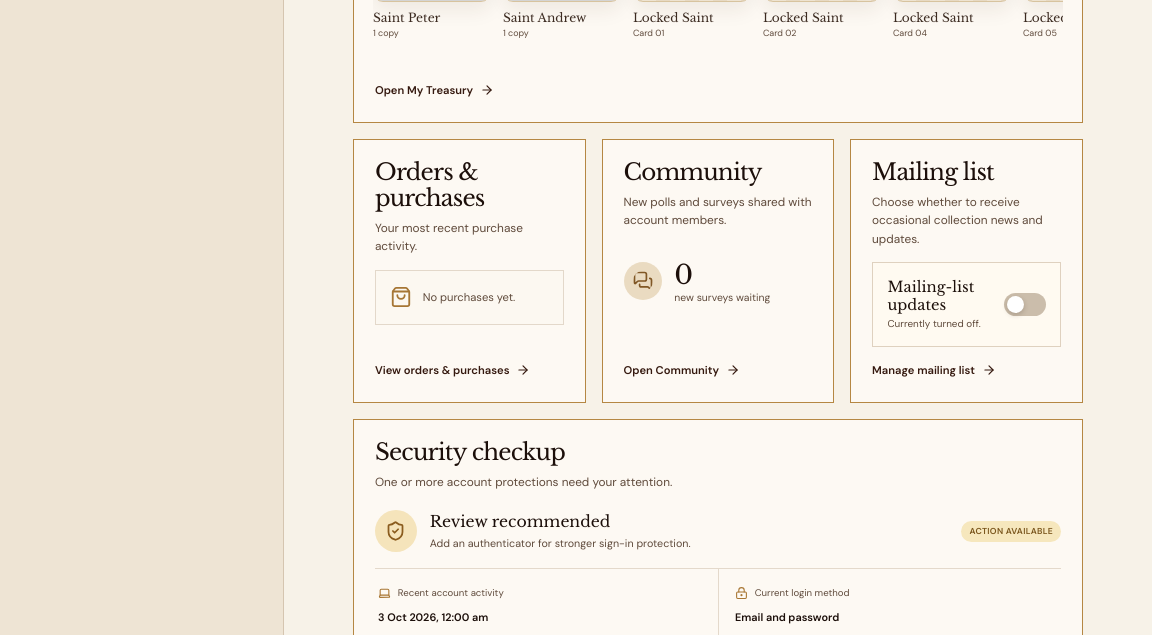
routed Account Centre › updates the mailing-list preference from the Overview switch
(page scrolled)
Click the switch named "Receive mailing-list updates" at (967, 305), box [872,262,1061,347]
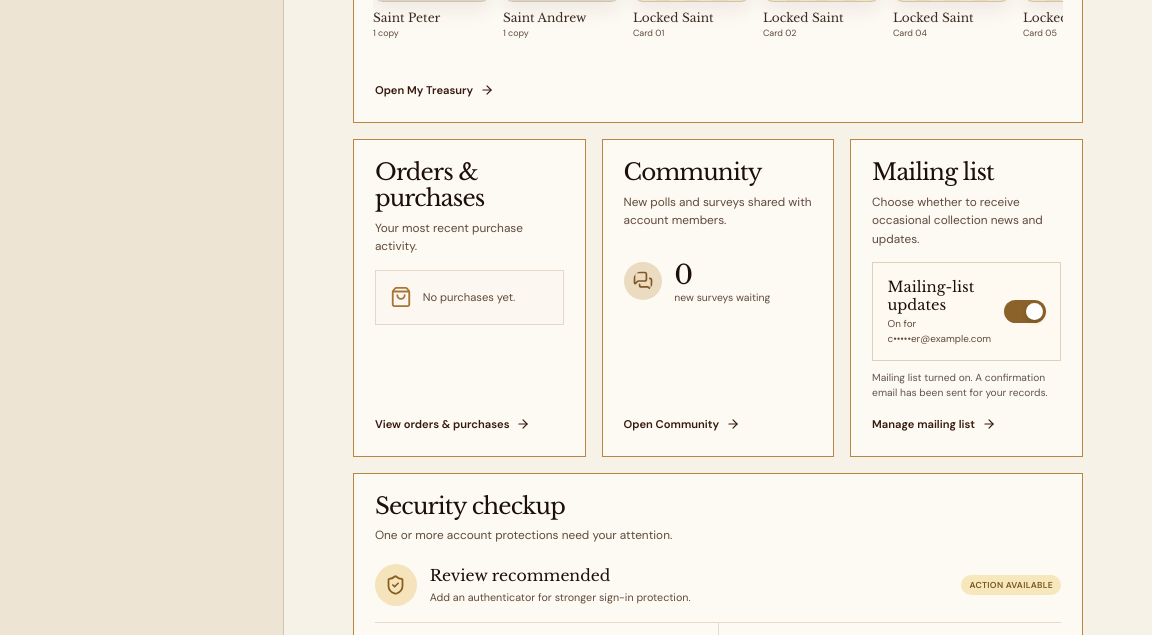
Expected: the switch named "Receive mailing-list updates" is checked, [872,262,1061,361]
Expected: the text "Mailing list turned on. A confirmation email has been sent for your records." is shown, [872,371,1061,401]
